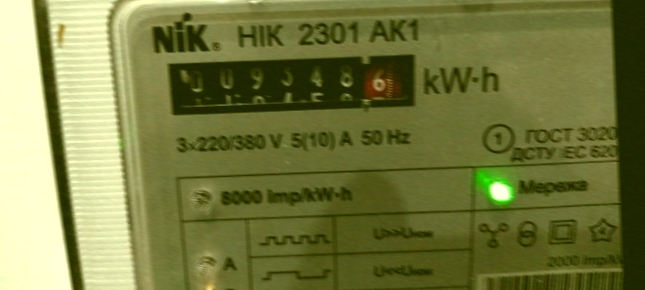0: (187, 69, 204, 95), (218, 65, 233, 91)
3: (279, 63, 294, 89)
4: (306, 60, 325, 91)
6: (369, 65, 387, 95)
8: (338, 62, 354, 90)
9: (249, 66, 264, 94)
screen: (149, 40, 430, 129)
